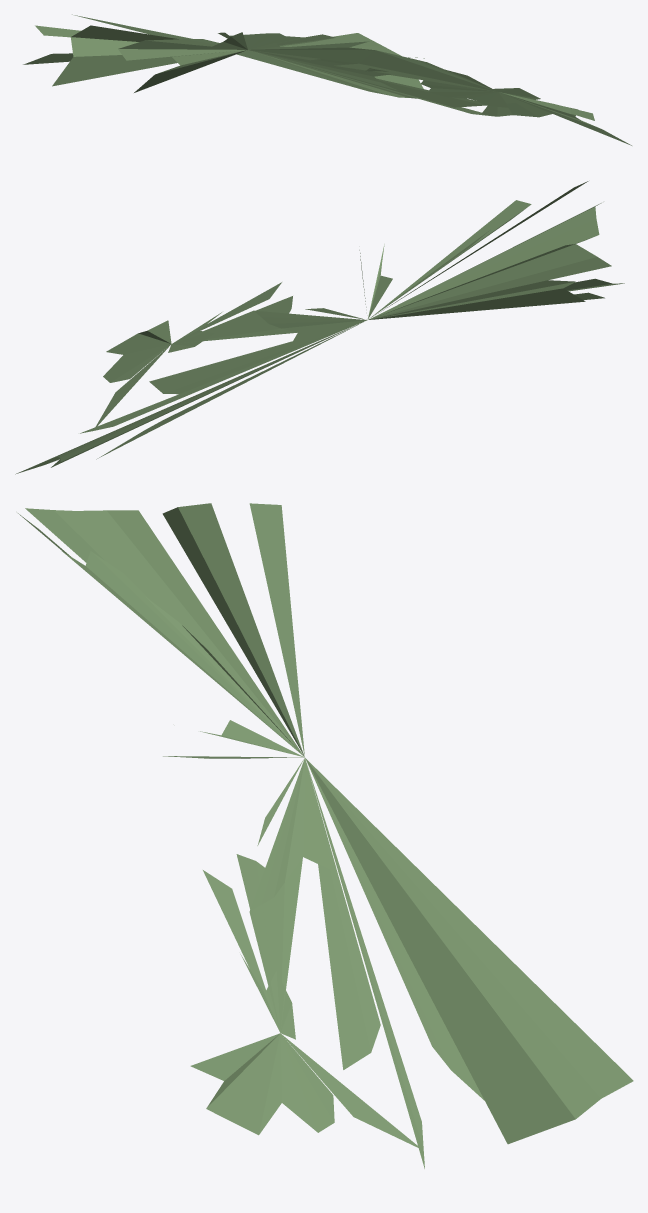
The model's file is c_1665_17821_parks.glb.
The picture shows the model from 3 angles, top to bottom: view 1: azimuth 30°, elevation 25°; view 2: azimuth 150°, elevation 25°; view 3: azimuth 270°, elevation 25°; orthographic projection. The views are drawn at different scales.
Parts seen in each view (by area): view 1: geometry_0; view 2: geometry_0; view 3: geometry_0.
Part boxes in pixels (x1=…): geometry_0: x1=23, y1=14, x2=631, y2=145; geometry_0: x1=15, y1=181, x2=624, y2=474; geometry_0: x1=18, y1=503, x2=633, y2=1168.
Bounding box in the file's own units: 425 × 211 × 288.
